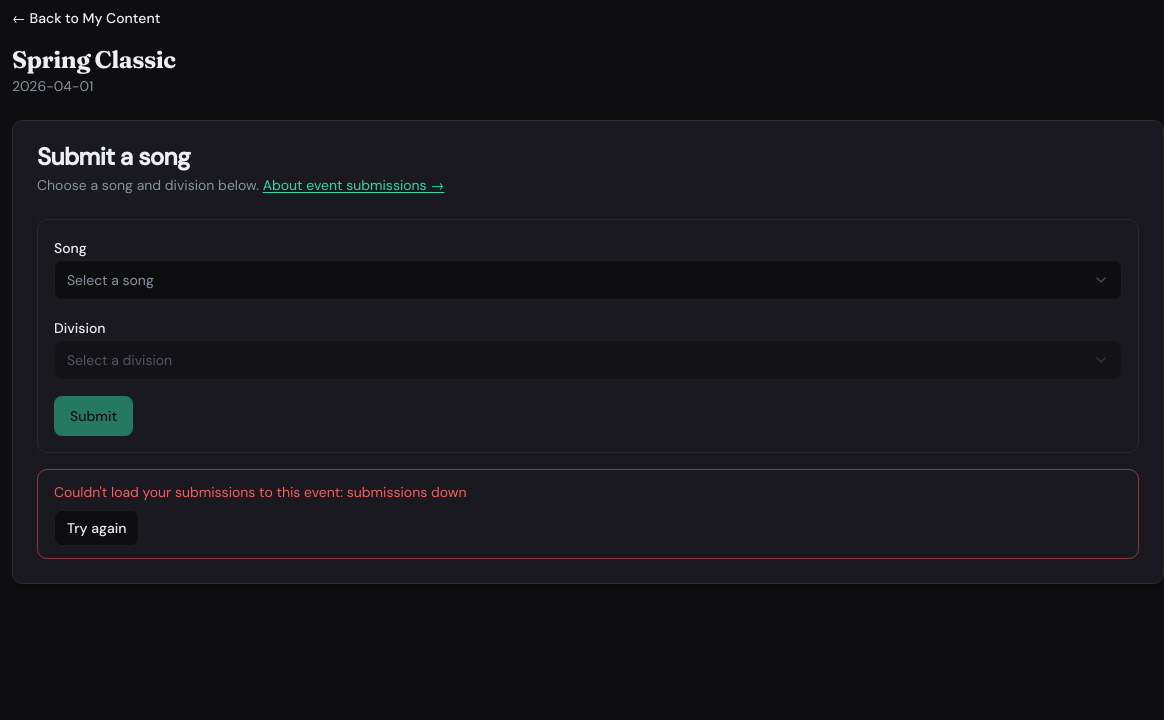
Test: EventSubmissionsPage — failed loads › shows a failed submissions load instead of an empty list, blocks submitting, and retries
Check: the message shows "Couldn't load your submissions to this event: submissions down", box 37,469 -> 1139,559
Click the dropdown labelled "Select a song": click(110, 280) 54,260 -> 1122,300
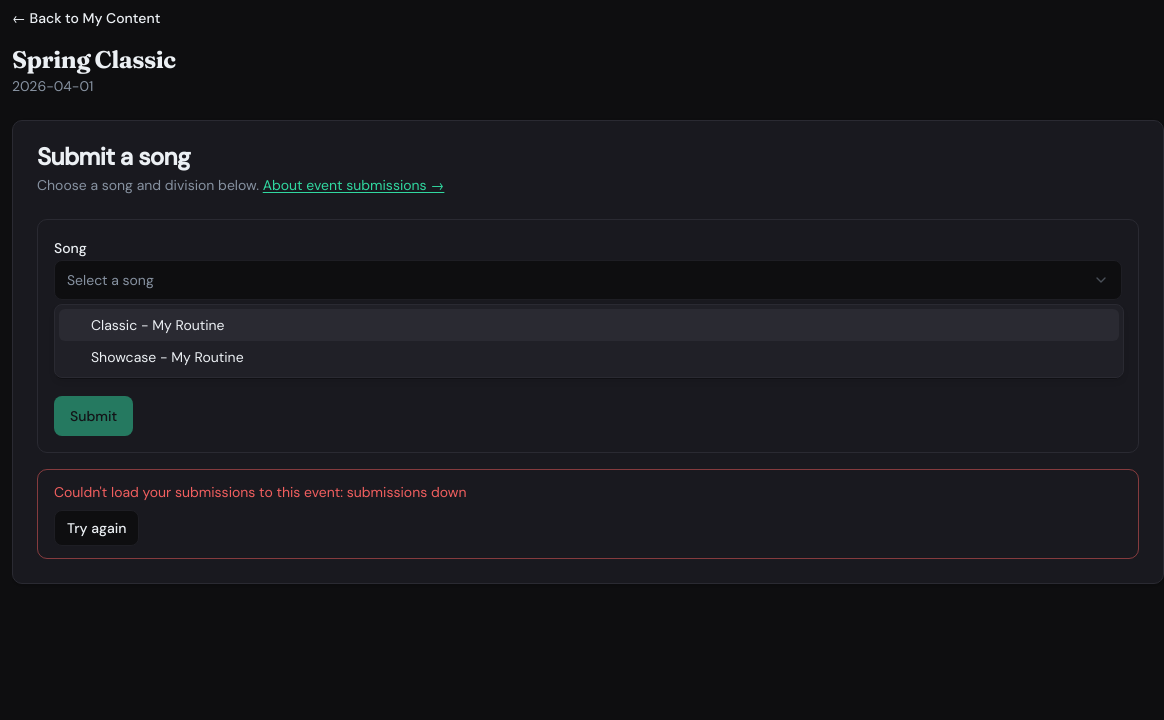
Click the option "Showcase - My Routine": click(167, 357) 91,348 -> 244,366
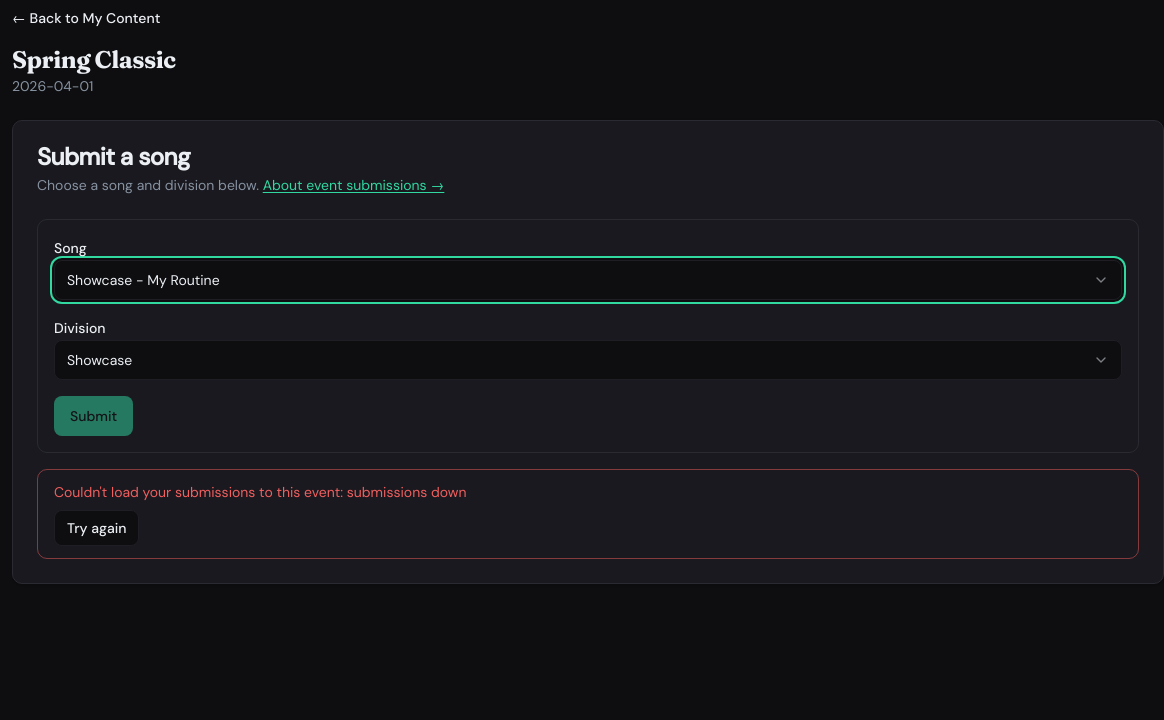
Check: the button "Submit" is disabled, box 54,396 -> 133,436
Click the button "Try again": click(97, 528) 54,510 -> 140,546
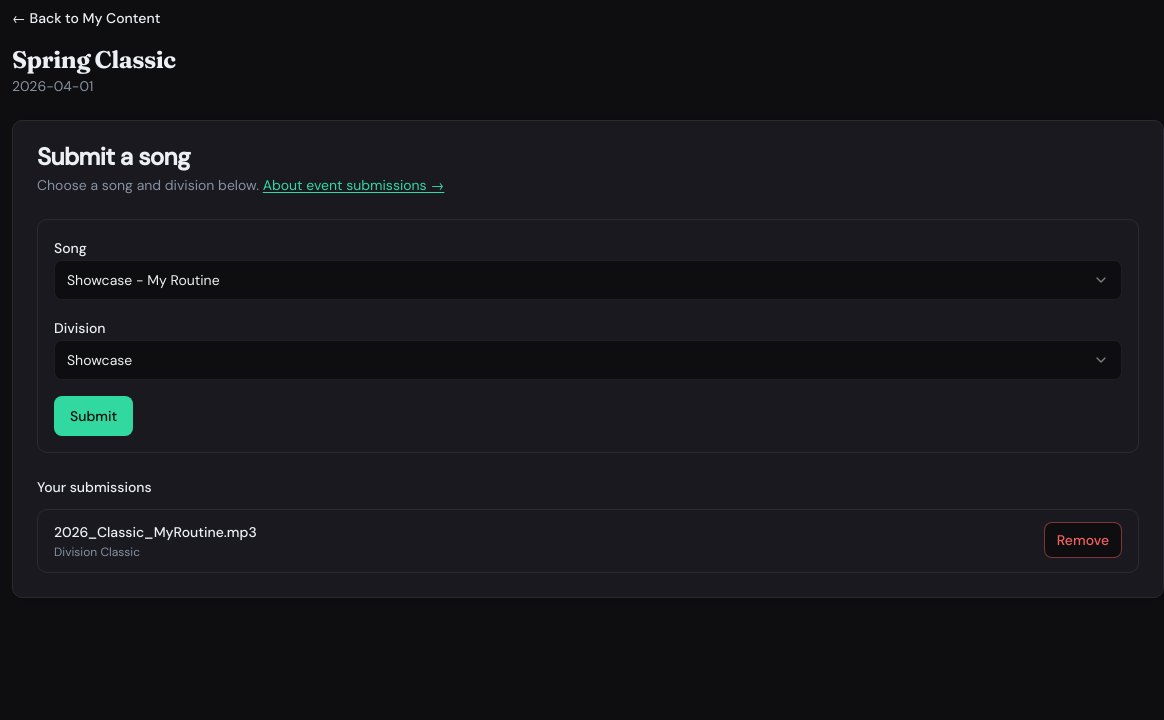
Check: the text "Your submissions" is shown, box 37,478 -> 152,496
Check: the message "Couldn't load your submissions to this event: submissions down Try again" is gone
Check: the button "Submit" is enabled, box 54,396 -> 133,436
